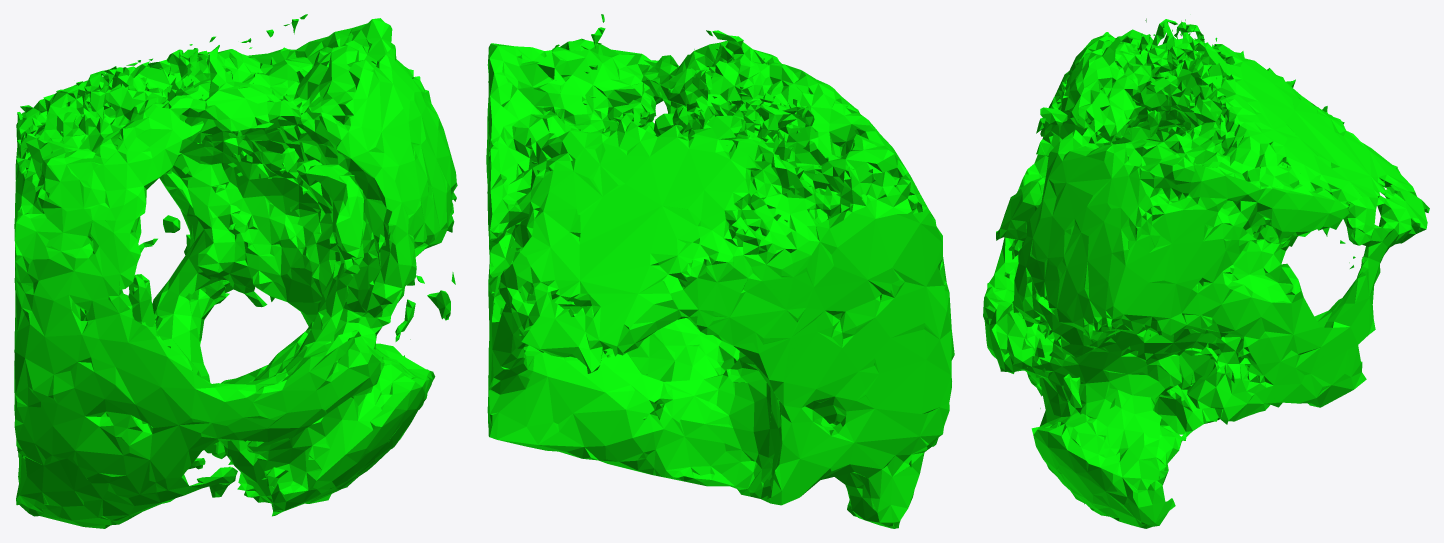
Rendered from B939XXXX-1_base_33.obj.
The picture shows the model from 3 angles, left to right: view 1: azimuth 30°, elevation 25°; view 2: azimuth 150°, elevation 25°; view 3: azimuth 270°, elevation 25°; orthographic projection. The views are drawn at different scales.
Parts seen in each view (by area): view 1: 33_base; view 2: 33_base; view 3: 33_base.
Part boxes in pixels (box(x1,y1,x2,y2)): 33_base: box(14, 14, 457, 528); 33_base: box(486, 14, 954, 528); 33_base: box(983, 18, 1429, 528).
Bounding box in the file's own units: 217 × 216 × 203.
